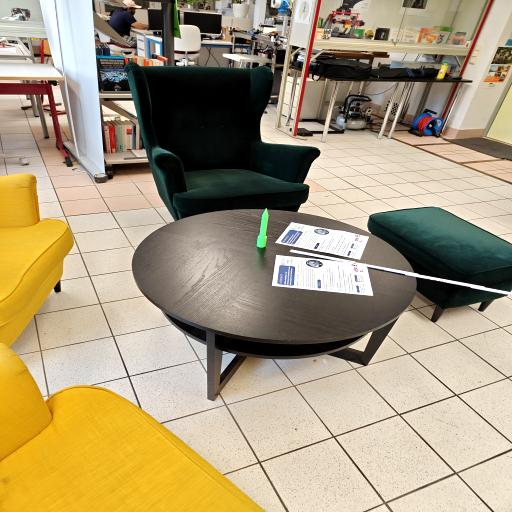Probe-Detection: (257, 209, 268, 248)
